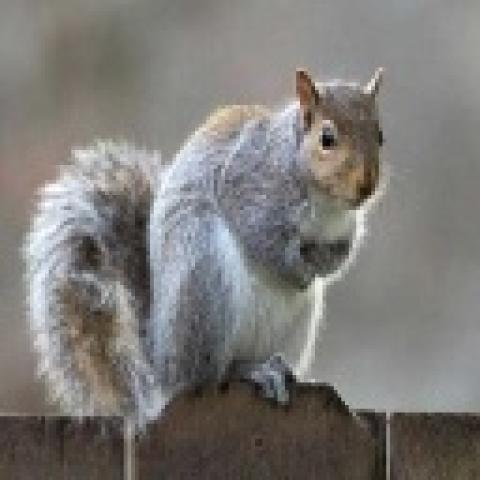small_animal: (26, 67, 390, 431)
